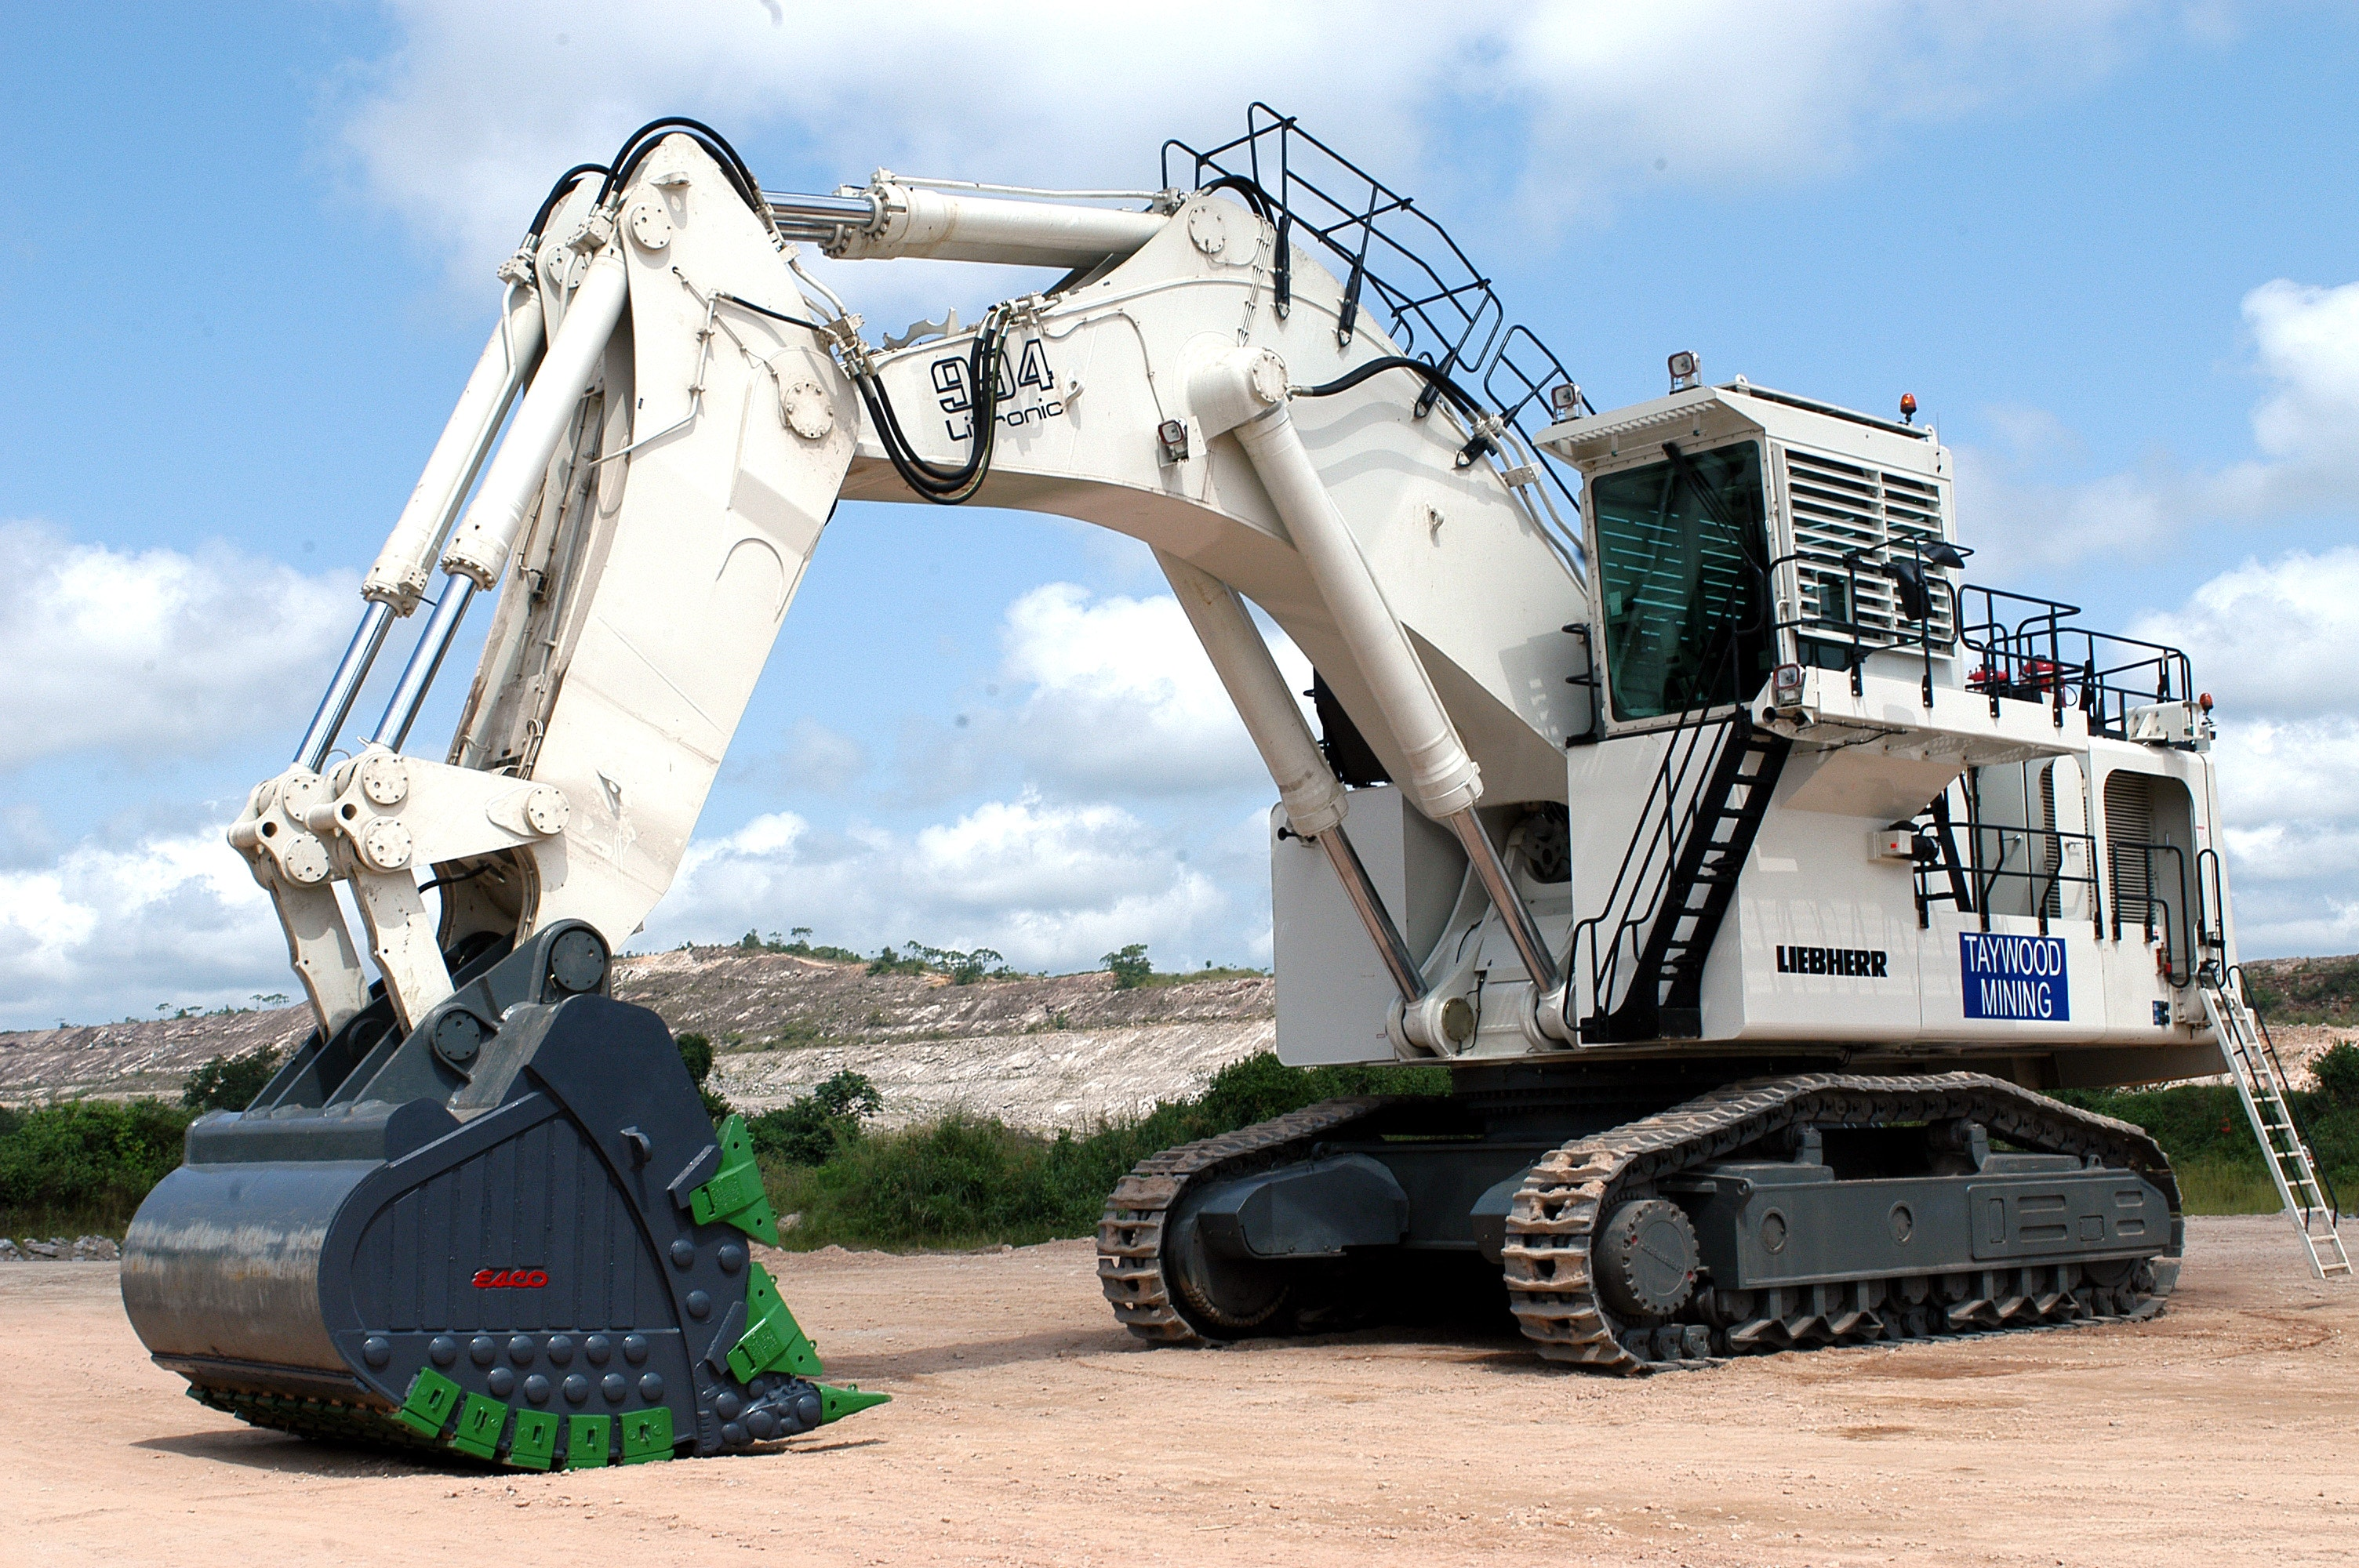excavator: (117, 91, 2264, 1477)
